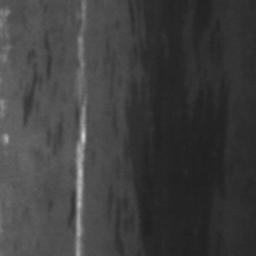Bright scratch: (74, 0, 87, 256)
